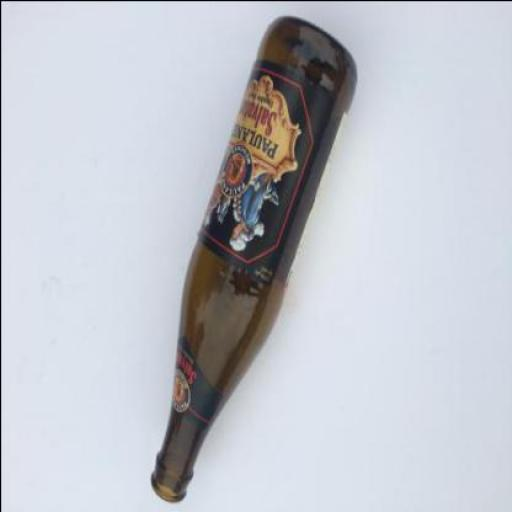glass: (149, 14, 356, 500)
